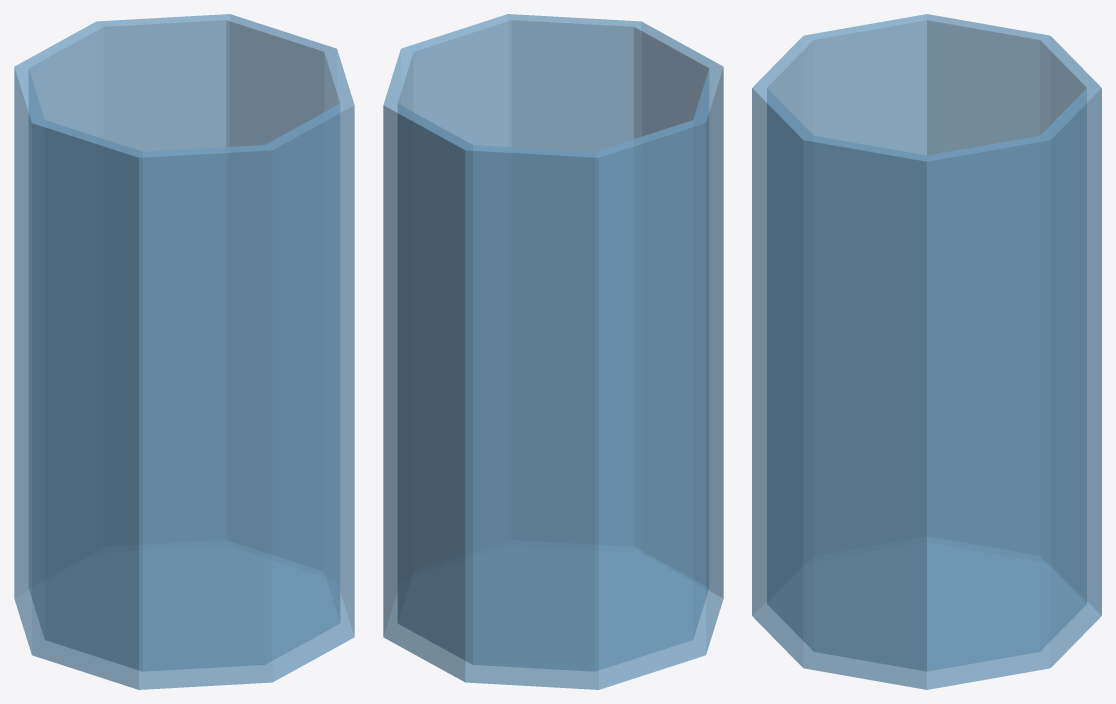
File: tarro base.fbx
3 views of the same model, side by side, from view 1: azimuth 30°, elevation 25°; view 2: azimuth 150°, elevation 25°; view 3: azimuth 270°, elevation 25° (orthographic).
Parts seen in each view (by area): view 1: tarro base; view 2: tarro base; view 3: tarro base.
Part boxes in pixels (x1,y1,x2,y2): tarro base: (14, 14, 354, 689); tarro base: (383, 14, 723, 689); tarro base: (752, 14, 1101, 689).
Size of the model in its own units: 15 by 15 by 25.
